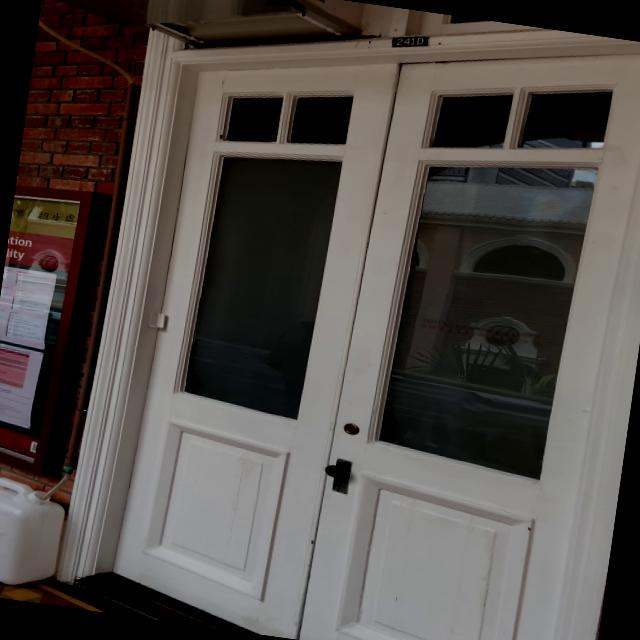room241d: (388, 30, 434, 54)
